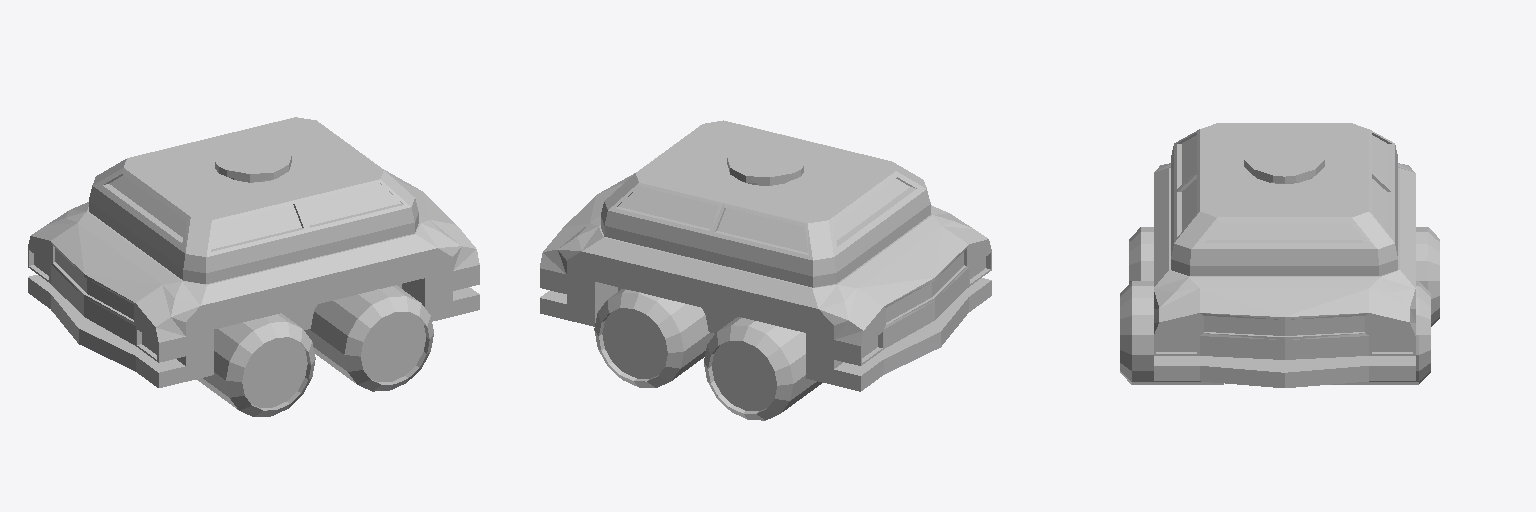
The model's file is car.obj.
3 views of the same model, side by side, from view 1: azimuth 30°, elevation 25°; view 2: azimuth 150°, elevation 25°; view 3: azimuth 270°, elevation 25° (orthographic).
Parts seen in each view (by area): view 1: Body_Cube.002, CarTop_Cube.001, Back_Wheels.001_Cylinder, Front_Wheels_Cylinder, Turret.003_Cube.006; view 2: Body_Cube.002, CarTop_Cube.001, Back_Wheels.001_Cylinder, Front_Wheels_Cylinder, Turret.003_Cube.006; view 3: Body_Cube.002, CarTop_Cube.001, Back_Wheels.001_Cylinder, Front_Wheels_Cylinder, Turret.003_Cube.006.
Boxes of the visible parts, x1=… form: Body_Cube.002: x1=28, y1=170, x2=479, y2=387; CarTop_Cube.001: x1=89, y1=117, x2=418, y2=283; Back_Wheels.001_Cylinder: x1=304, y1=285, x2=433, y2=391; Front_Wheels_Cylinder: x1=196, y1=313, x2=315, y2=416; Turret.003_Cube.006: x1=215, y1=142, x2=291, y2=182; Body_Cube.002: x1=540, y1=173, x2=991, y2=391; CarTop_Cube.001: x1=601, y1=120, x2=930, y2=287; Back_Wheels.001_Cylinder: x1=594, y1=289, x2=714, y2=387; Front_Wheels_Cylinder: x1=704, y1=317, x2=821, y2=420; Turret.003_Cube.006: x1=727, y1=145, x2=803, y2=185; Body_Cube.002: x1=1154, y1=163, x2=1415, y2=387; CarTop_Cube.001: x1=1171, y1=123, x2=1397, y2=275; Back_Wheels.001_Cylinder: x1=1120, y1=281, x2=1430, y2=384; Front_Wheels_Cylinder: x1=1129, y1=227, x2=1439, y2=326; Turret.003_Cube.006: x1=1244, y1=142, x2=1324, y2=183.
Size of the model in its own units: 6.41 by 3.38 by 5.07.